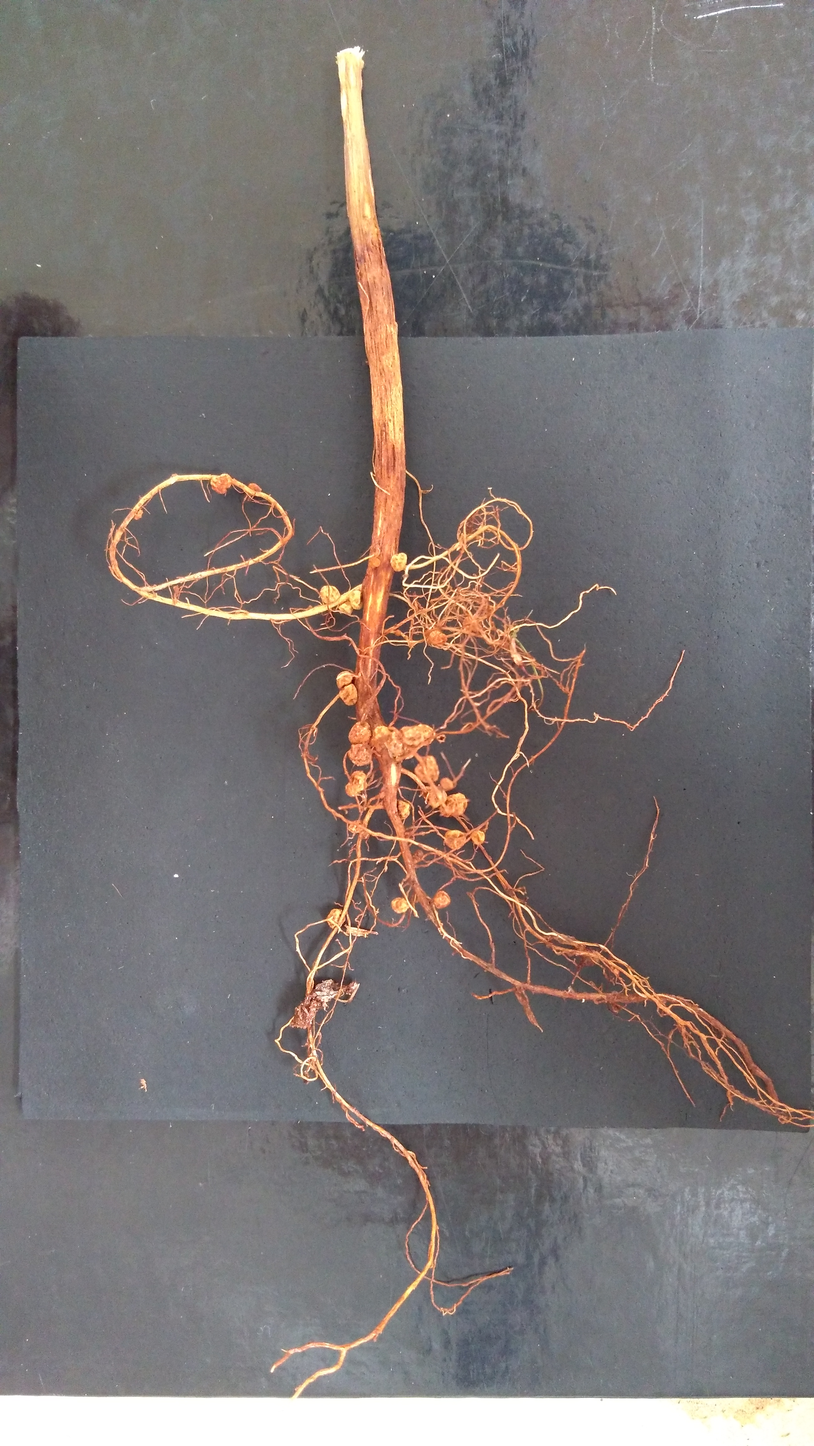nodule: (288, 996, 322, 1030), (310, 978, 343, 1005), (399, 723, 435, 747), (384, 730, 411, 760), (414, 755, 440, 783), (439, 792, 468, 817), (421, 784, 449, 808), (344, 770, 368, 797), (347, 742, 374, 766), (369, 725, 393, 752), (348, 721, 372, 745), (339, 682, 359, 706), (444, 829, 466, 850), (211, 473, 232, 494), (326, 908, 346, 929), (319, 585, 341, 604), (426, 629, 448, 647), (462, 614, 482, 633), (390, 552, 408, 572), (433, 890, 451, 909), (336, 670, 354, 689), (395, 799, 411, 820), (349, 590, 365, 610), (390, 897, 409, 913), (469, 829, 486, 845), (348, 819, 365, 834), (338, 600, 353, 616), (439, 776, 455, 790), (368, 556, 381, 569), (412, 848, 424, 861), (247, 483, 262, 492), (133, 508, 144, 520), (436, 734, 446, 743), (612, 1003, 620, 1013), (173, 584, 179, 596), (612, 967, 620, 975), (360, 832, 369, 839), (379, 790, 386, 799), (305, 604, 313, 611), (394, 628, 401, 636), (311, 1056, 317, 1061), (404, 635, 409, 639)
